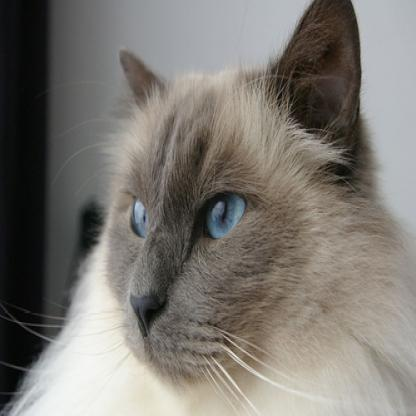cat: (1, 0, 415, 415)
